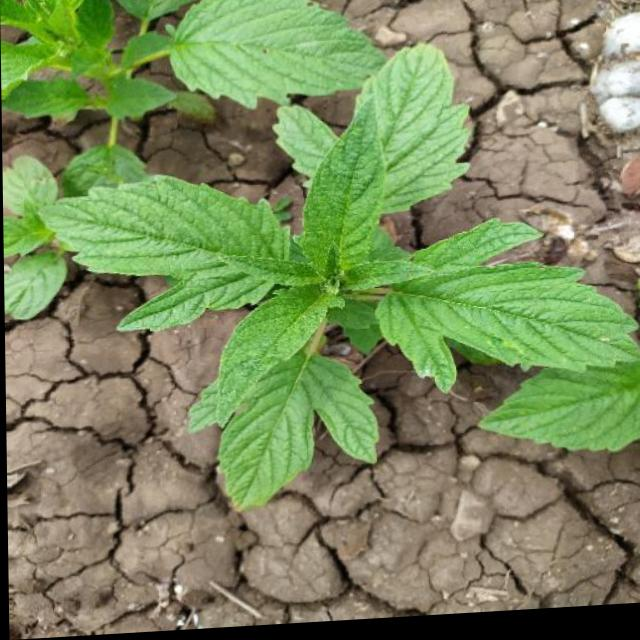crop: (60, 57, 640, 509), (1, 0, 401, 225)
